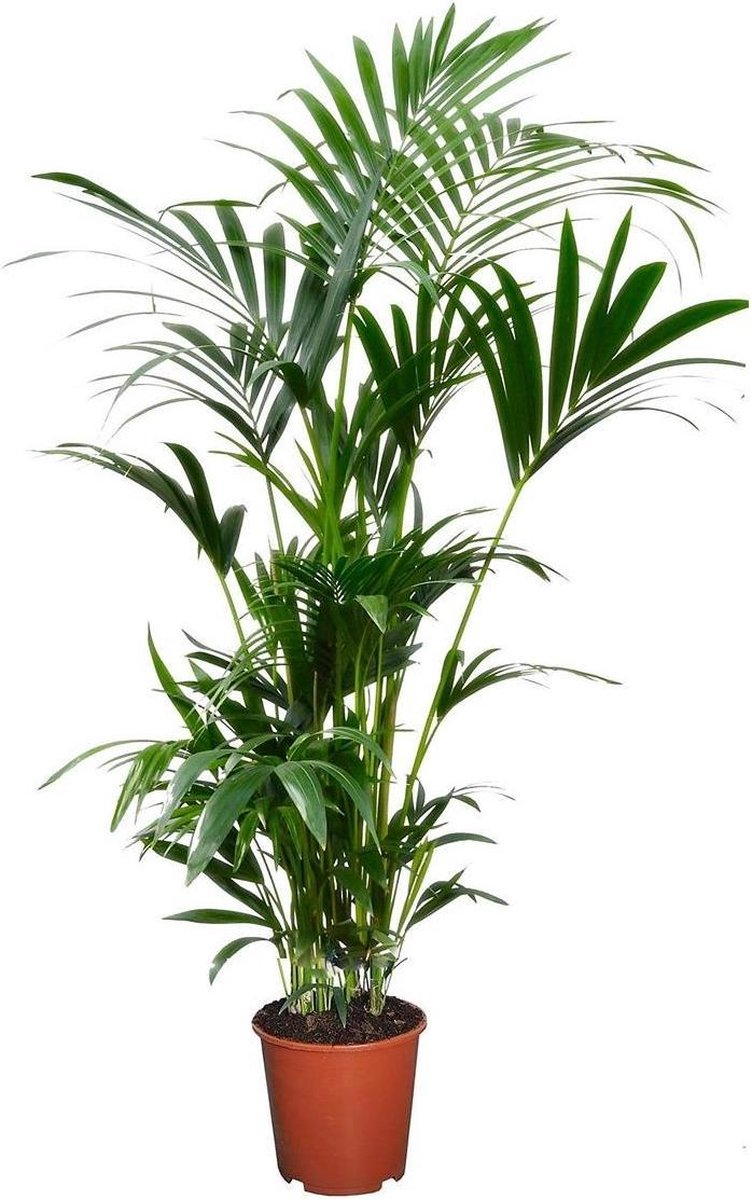plant: (6, 1, 752, 1196)
